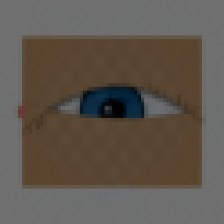foreign_body_visible: (105, 125, 136, 151)
